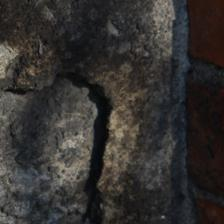Crack: (33, 35, 82, 188)
